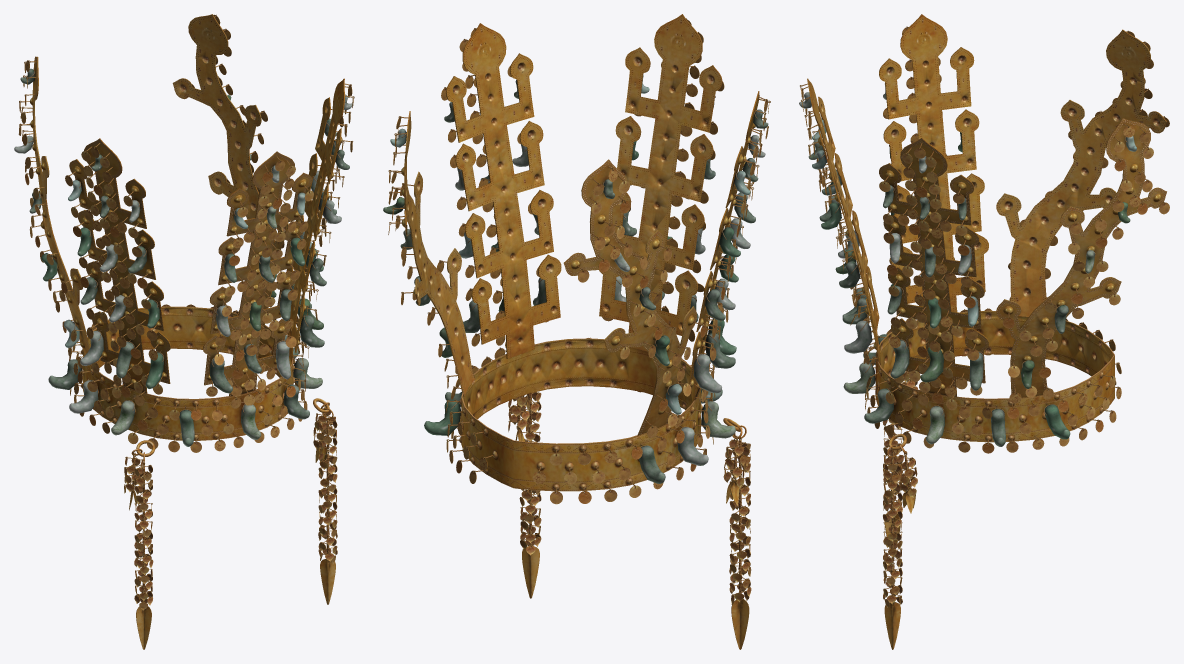
Rendered from crown.glb.
3 renders of one model, left to right at view 1: azimuth 30°, elevation 25°; view 2: azimuth 150°, elevation 25°; view 3: azimuth 270°, elevation 25°, orthographic. The views are drawn at different scales.
Visible parts, largest first — view 1: Object_2, Object_3, Object_5, Object_6, Object_7, Object_4; view 2: Object_2, Object_3, Object_5, Object_6, Object_7, Object_4; view 3: Object_2, Object_6, Object_5, Object_4, Object_3, Object_7.
Part boxes in pixels (x1=…): Object_2: x1=14, y1=68, x2=352, y2=446; Object_3: x1=18, y1=14, x2=313, y2=452; Object_5: x1=69, y1=78, x2=344, y2=393; Object_6: x1=30, y1=14, x2=288, y2=365; Object_7: x1=124, y1=398, x2=337, y2=649; Object_4: x1=161, y1=83, x2=354, y2=442; Object_2: x1=383, y1=75, x2=768, y2=491; Object_3: x1=388, y1=14, x2=770, y2=504; Object_5: x1=446, y1=23, x2=759, y2=400; Object_6: x1=401, y1=111, x2=696, y2=435; Object_7: x1=508, y1=392, x2=751, y2=649; Object_4: x1=438, y1=28, x2=715, y2=483; Object_2: x1=799, y1=85, x2=1136, y2=446; Object_6: x1=996, y1=29, x2=1166, y2=397; Object_5: x1=879, y1=14, x2=988, y2=396; Object_4: x1=812, y1=142, x2=1121, y2=453; Object_3: x1=800, y1=26, x2=1169, y2=448; Object_7: x1=882, y1=371, x2=917, y2=649.
Bounding box in the file's own units: 3 × 5.37 × 3.41.
5 materials, 5 textured.
